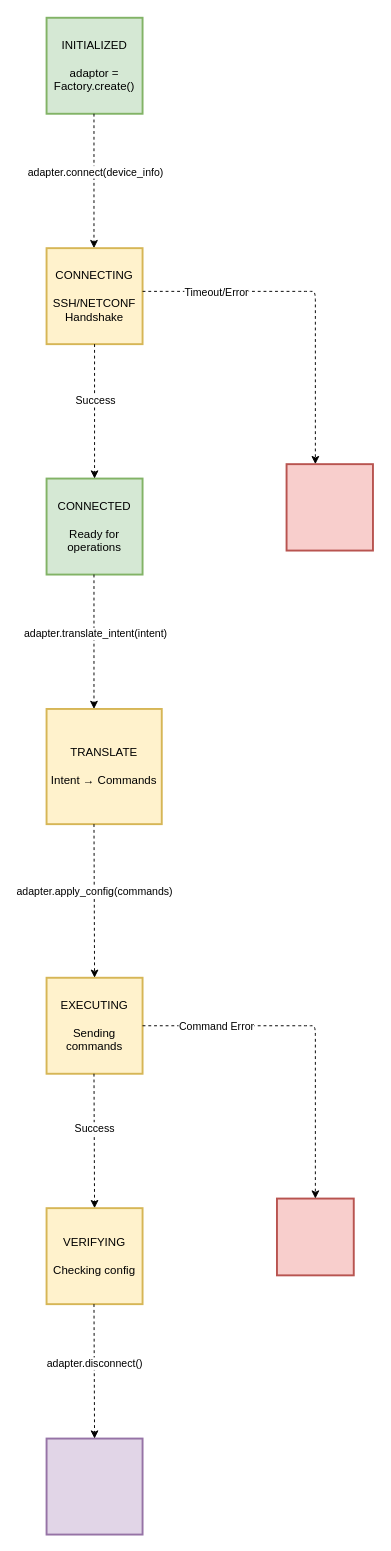
Some shapes in this 391 by 1551 pixel diagram are drawn without their labels. The shapes that lost their labels are listed below. From the top down, each one's centre as x and y in pixels, then its label:
At (329,507): "ERROR Connection failed".
At (315,1236): "ERROR Execution failed".
At (94,1486): "DISCONNECTED Connection closed".
